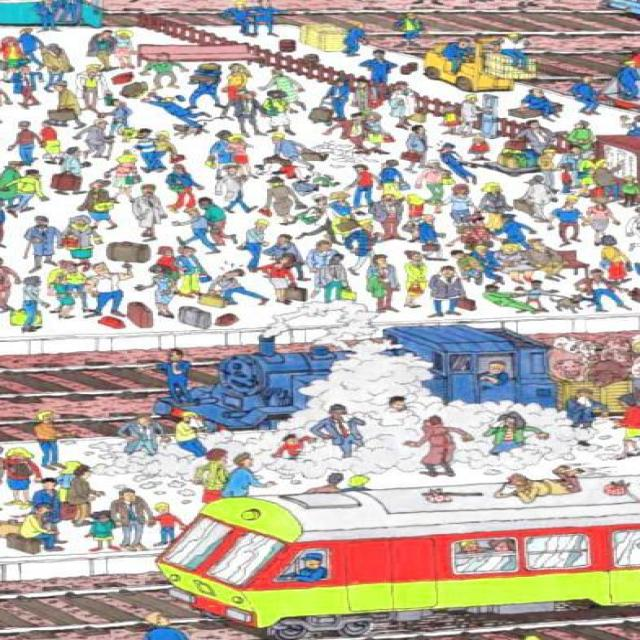waldo: (469, 214, 485, 227)
